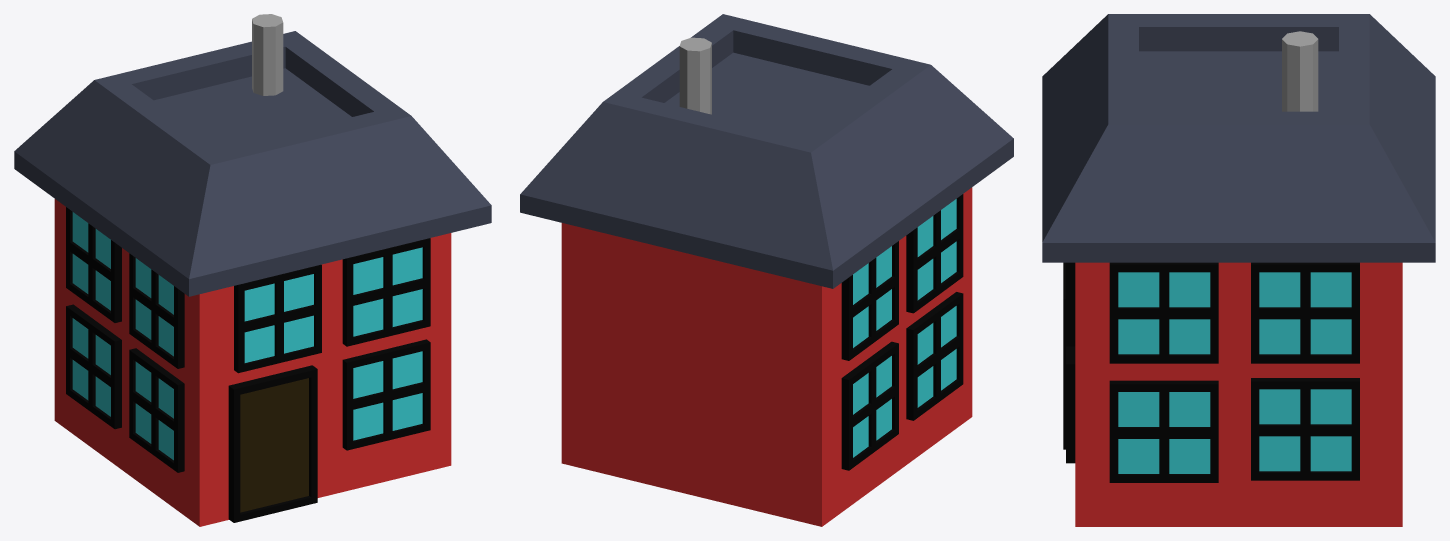
Rendered from smallBuilding.fbx.
3 renders of one model, left to right at view 1: azimuth 30°, elevation 25°; view 2: azimuth 150°, elevation 25°; view 3: azimuth 270°, elevation 25°, orthographic. The views are drawn at different scales.
Parts seen in each view (by area): view 1: redHouse; view 2: redHouse; view 3: redHouse.
Part boxes in pixels (x1,y1,x2,y2): redHouse: (14, 14, 491, 526); redHouse: (520, 14, 1013, 526); redHouse: (1042, 14, 1435, 526).
Bounding box in the file's own units: 722 × 894 × 722.
